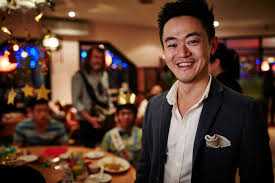asian_male: (158, 10, 215, 81)
